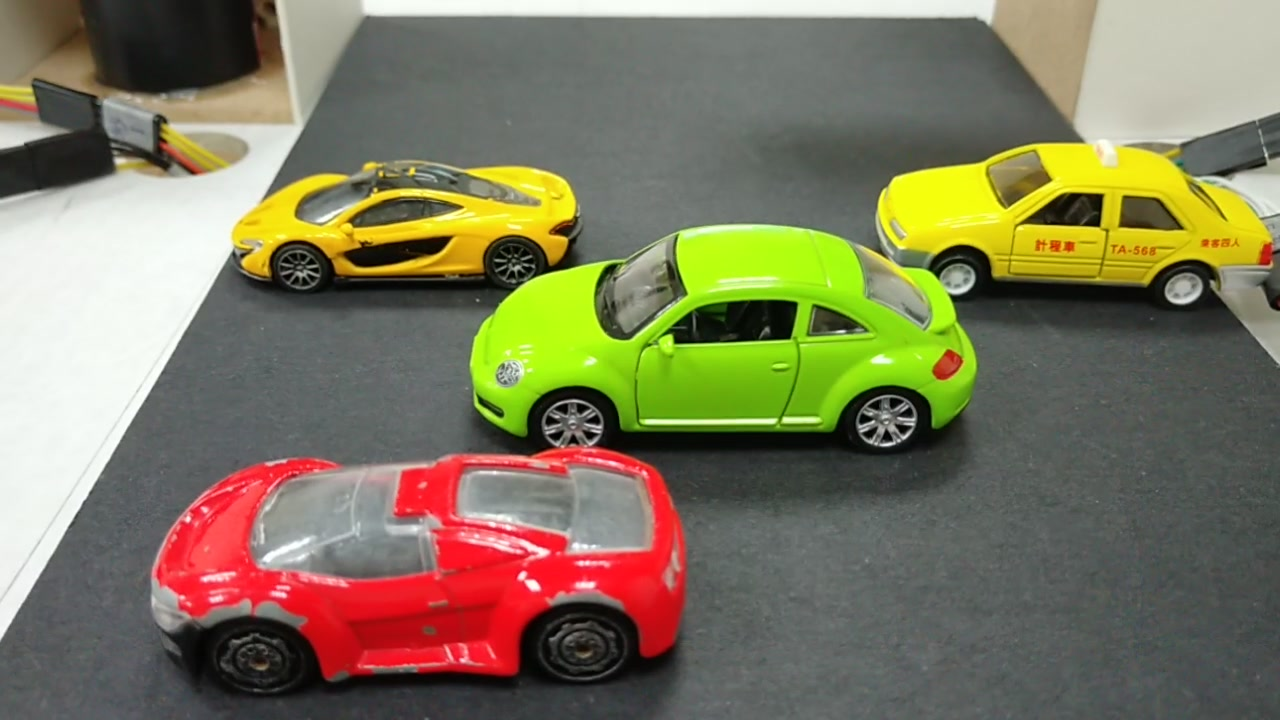car: (145, 443, 684, 697), (474, 225, 966, 450), (886, 145, 1272, 316), (238, 166, 576, 286)
